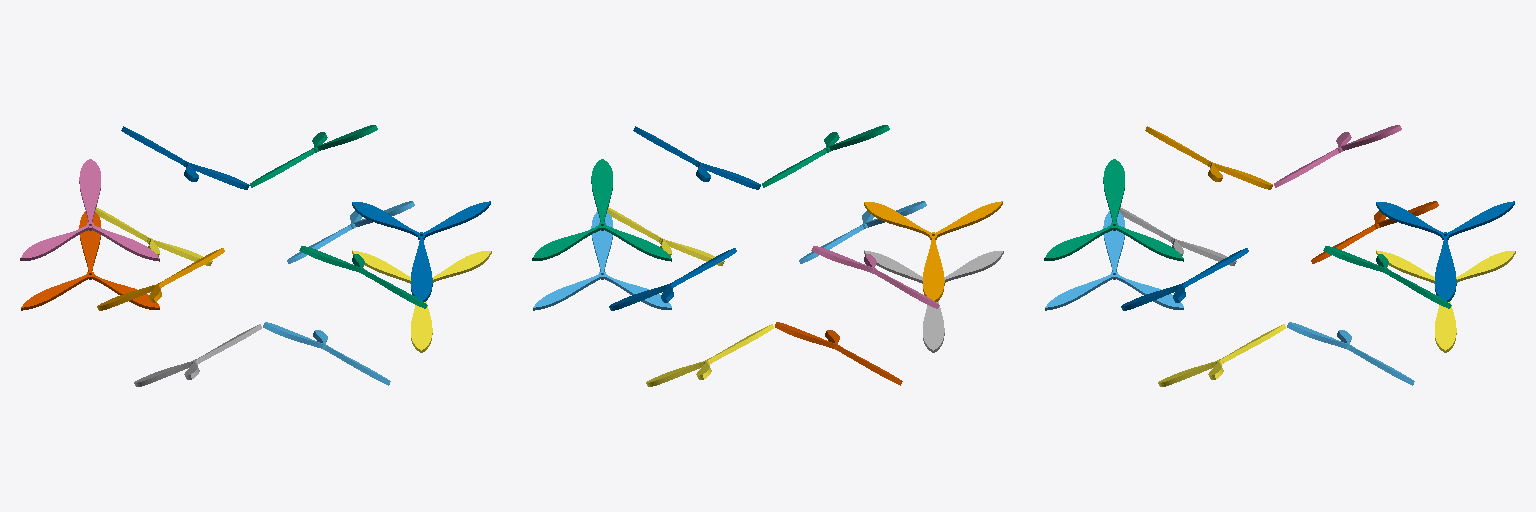
The robot description file, URDF, robot "AM20":
<?xml version="1.0" encoding="utf-8"?>
<robot name="AM20">
  <!--
    AM20 = AM-base (drone) + RM65-6F arm.

    Frame convention requested:
    - Overall base frame is drone base_link.
    - Arm base frame: Z axis aligned with drone Z.
    - Arm base is translated +1.5 mm along Z from drone base.
    - Arm X/Y are opposite to drone X/Y => rotate 180 deg around Z.

    NOTE:
    - If your tool cannot resolve package://AM-base/... mesh path, replace it with a local path.
  -->

  <!-- ======================= -->
  <!-- Drone base (overall base) -->
  <!-- ======================= -->
  <link name="base_link">
    <inertial>
      <origin xyz="-0.00048281 -0.0036283 -0.058543" rpy="0 0 0" />
      <mass value="13.818" />
      <inertia ixx="0.27248" ixy="-0.003316" ixz="0.0045127" iyy="0.28111" iyz="0.0060196" izz="0.45779" />
    </inertial>
    <visual>
      <origin xyz="0 0 0" rpy="0 0 0" />
      <geometry>
        <mesh filename="meshes/base_link.STL" scale="0.001 0.001 0.001" />
      </geometry>
      <material name="">
        <color rgba="0.6 0.6 0.6 1" />
      </material>
    </visual>
    <collision>
      <origin xyz="0 0 0" rpy="0 0 0" />
      <geometry>
        <mesh filename="meshes/base_link.STL" scale="0.001 0.001 0.001" />
      </geometry>
    </collision>
  </link>

  <!-- ======================= -->
  <!-- Rotors (from model.sdf) -->
  <!-- ======================= -->
  <!--
    Mapping requested:
    sdf 0/6 -> urdf 10/11
    sdf 1/7 -> urdf 8/9
    sdf 2/8 -> urdf 6/7
    sdf 3/9 -> urdf 4/5
    sdf 4/10 -> urdf 2/3
    sdf 5/11 -> urdf 0/1
  -->

  <link name="rotor_0">
    <inertial>
      <origin xyz="0 0 0" rpy="0 0 0" />
      <mass value="0.015" />
      <inertia ixx="0.00025" ixy="0" ixz="0" iyy="0.000002" iyz="0" izz="0.00025" />
    </inertial>
    <visual>
      <origin xyz="0 0 0" rpy="0 0 0" />
      <geometry>
        <mesh filename="meshes/prop_13.STL" scale="0.001 -0.001 -0.001" />
      </geometry>
    </visual>
    <collision>
      <origin xyz="0 0 0.006" rpy="0 0 0" />
      <geometry>
        <cylinder length="0.008" radius="0.229" />
      </geometry>
    </collision>
  </link>
  <joint name="rotor_0_joint" type="continuous">
    <origin xyz="0.3081 0.1408 -0.0727" rpy="-0.5236 0 0.5236" />
    <parent link="base_link" />
    <child link="rotor_0" />
    <axis xyz="0 0 1" />
    <limit effort="10" velocity="900" />
    <dynamics damping="0.005" friction="0.0" />
  </joint>

  <link name="rotor_1">
    <inertial>
      <origin xyz="0 0 0" rpy="0 0 0" />
      <mass value="0.015" />
      <inertia ixx="0.00025" ixy="0" ixz="0" iyy="0.000002" iyz="0" izz="0.00025" />
    </inertial>
    <visual>
      <origin xyz="0 0 0" rpy="0 0 0" />
      <geometry>
        <mesh filename="meshes/prop_13.STL" scale="-0.001 -0.001 -0.001" />
      </geometry>
    </visual>
    <collision>
      <origin xyz="0 0 0.006" rpy="0 0 0" />
      <geometry>
        <cylinder length="0.008" radius="0.229" />
      </geometry>
    </collision>
  </link>
  <joint name="rotor_1_joint" type="continuous">
    <origin xyz="0.2645 0.2164 0.0785" rpy="-0.5236 0 0.5236" />
    <parent link="base_link" />
    <child link="rotor_1" />
    <axis xyz="0 0 1" />
    <limit effort="10" velocity="900" />
    <dynamics damping="0.005" friction="0.0" />
  </joint>

  <link name="rotor_2">
    <inertial>
      <origin xyz="0 0 0" rpy="0 0 0" />
      <mass value="0.015" />
      <inertia ixx="0.00025" ixy="0" ixz="0" iyy="0.000002" iyz="0" izz="0.00025" />
    </inertial>
    <visual>
      <origin xyz="0 0 0" rpy="0 0 0" />
      <geometry>
        <mesh filename="meshes/prop_13.STL" scale="-0.001 -0.001 -0.001" />
      </geometry>
    </visual>
    <collision>
      <origin xyz="0 0 0.006" rpy="0 0 0" />
      <geometry>
        <cylinder length="0.008" radius="0.229" />
      </geometry>
    </collision>
  </link>
  <joint name="rotor_2_joint" type="continuous">
    <origin xyz="-0.0501 0.3372 -0.1039" rpy="0.5236 0 1.5708" />
    <parent link="base_link" />
    <child link="rotor_2" />
    <axis xyz="0 0 1" />
    <limit effort="10" velocity="900" />
    <dynamics damping="0.005" friction="0.0" />
  </joint>

  <link name="rotor_3">
    <inertial>
      <origin xyz="0 0 0" rpy="0 0 0" />
      <mass value="0.015" />
      <inertia ixx="0.00025" ixy="0" ixz="0" iyy="0.000002" iyz="0" izz="0.00025" />
    </inertial>
    <visual>
      <origin xyz="0 0 0" rpy="0 0 0" />
      <geometry>
        <mesh filename="meshes/prop_13.STL" scale="0.001 -0.001 -0.001" />
      </geometry>
    </visual>
    <collision>
      <origin xyz="0 0 0.006" rpy="0 0 0" />
      <geometry>
        <cylinder length="0.008" radius="0.229" />
      </geometry>
    </collision>
  </link>
  <joint name="rotor_3_joint" type="continuous">
    <origin xyz="0.0372 0.3372 0.0473" rpy="0.5236 0 1.5708" />
    <parent link="base_link" />
    <child link="rotor_3" />
    <axis xyz="0 0 1" />
    <limit effort="10" velocity="900" />
    <dynamics damping="0.005" friction="0.0" />
  </joint>

  <link name="rotor_4">
    <inertial>
      <origin xyz="0 0 0" rpy="0 0 0" />
      <mass value="0.015" />
      <inertia ixx="0.00025" ixy="0" ixz="0" iyy="0.000002" iyz="0" izz="0.00025" />
    </inertial>
    <visual>
      <origin xyz="0 0 0" rpy="0 0 0" />
      <geometry>
        <mesh filename="meshes/prop_13.STL" scale="0.001 -0.001 -0.001" />
      </geometry>
    </visual>
    <collision>
      <origin xyz="0 0 0.006" rpy="0 0 0" />
      <geometry>
        <cylinder length="0.008" radius="0.229" />
      </geometry>
    </collision>
  </link>
  <joint name="rotor_4_joint" type="continuous">
    <origin xyz="-0.2760 0.1965 -0.0727" rpy="-0.5236 0 2.6180" />
    <parent link="base_link" />
    <child link="rotor_4" />
    <axis xyz="0 0 1" />
    <limit effort="10" velocity="900" />
    <dynamics damping="0.005" friction="0.0" />
  </joint>

  <link name="rotor_5">
    <inertial>
      <origin xyz="0 0 0" rpy="0 0 0" />
      <mass value="0.015" />
      <inertia ixx="0.00025" ixy="0" ixz="0" iyy="0.000002" iyz="0" izz="0.00025" />
    </inertial>
    <visual>
      <origin xyz="0 0 0" rpy="0 0 0" />
      <geometry>
        <mesh filename="meshes/prop_13.STL" scale="-0.001 -0.001 -0.001" />
      </geometry>
    </visual>
    <collision>
      <origin xyz="0 0 0.006" rpy="0 0 0" />
      <geometry>
        <cylinder length="0.008" radius="0.229" />
      </geometry>
    </collision>
  </link>
  <joint name="rotor_5_joint" type="continuous">
    <origin xyz="-0.3196 0.1209 0.0785" rpy="-0.5236 0 2.6180" />
    <parent link="base_link" />
    <child link="rotor_5" />
    <axis xyz="0 0 1" />
    <limit effort="10" velocity="900" />
    <dynamics damping="0.005" friction="0.0" />
  </joint>

  <link name="rotor_6">
    <inertial>
      <origin xyz="0 0 0" rpy="0 0 0" />
      <mass value="0.015" />
      <inertia ixx="0.00025" ixy="0" ixz="0" iyy="0.000002" iyz="0" izz="0.00025" />
    </inertial>
    <visual>
      <origin xyz="0 0 0" rpy="0 0 0" />
      <geometry>
        <mesh filename="meshes/prop_13.STL" scale="-0.001 -0.001 -0.001" />
      </geometry>
    </visual>
    <collision>
      <origin xyz="0 0 0.006" rpy="0 0 0" />
      <geometry>
        <cylinder length="0.008" radius="0.229" />
      </geometry>
    </collision>
  </link>
  <joint name="rotor_6_joint" type="continuous">
    <origin xyz="-0.2670 -0.2121 -0.1039" rpy="0.5236 0 -2.6180" />
    <parent link="base_link" />
    <child link="rotor_6" />
    <axis xyz="0 0 1" />
    <limit effort="10" velocity="900" />
    <dynamics damping="0.005" friction="0.0" />
  </joint>

  <link name="rotor_7">
    <inertial>
      <origin xyz="0 0 0" rpy="0 0 0" />
      <mass value="0.015" />
      <inertia ixx="0.00025" ixy="0" ixz="0" iyy="0.000002" iyz="0" izz="0.00025" />
    </inertial>
    <visual>
      <origin xyz="0 0 0" rpy="0 0 0" />
      <geometry>
        <mesh filename="meshes/prop_13.STL" scale="0.001 -0.001 -0.001" />
      </geometry>
    </visual>
    <collision>
      <origin xyz="0 0 0.006" rpy="0 0 0" />
      <geometry>
        <cylinder length="0.008" radius="0.229" />
      </geometry>
    </collision>
  </link>
  <joint name="rotor_7_joint" type="continuous">
    <origin xyz="-0.3106 -0.1365 0.0473" rpy="0.5236 0 -2.6180" />
    <parent link="base_link" />
    <child link="rotor_7" />
    <axis xyz="0 0 1" />
    <limit effort="10" velocity="900" />
    <dynamics damping="0.005" friction="0.0" />
  </joint>

  <link name="rotor_8">
    <inertial>
      <origin xyz="0 0 0" rpy="0 0 0" />
      <mass value="0.015" />
      <inertia ixx="0.00025" ixy="0" ixz="0" iyy="0.000002" iyz="0" izz="0.00025" />
    </inertial>
    <visual>
      <origin xyz="0 0 0" rpy="0 0 0" />
      <geometry>
        <mesh filename="meshes/prop_13.STL" scale="0.001 -0.001 -0.001" />
      </geometry>
    </visual>
    <collision>
      <origin xyz="0 0 0.006" rpy="0 0 0" />
      <geometry>
        <cylinder length="0.008" radius="0.229" />
      </geometry>
    </collision>
  </link>
  <joint name="rotor_8_joint" type="continuous">
    <origin xyz="-0.0321 -0.3372 -0.0727" rpy="-0.5236 0 -1.5708" />
    <parent link="base_link" />
    <child link="rotor_8" />
    <axis xyz="0 0 1" />
    <limit effort="10" velocity="900" />
    <dynamics damping="0.005" friction="0.0" />
  </joint>

  <link name="rotor_9">
    <inertial>
      <origin xyz="0 0 0" rpy="0 0 0" />
      <mass value="0.015" />
      <inertia ixx="0.00025" ixy="0" ixz="0" iyy="0.000002" iyz="0" izz="0.00025" />
    </inertial>
    <visual>
      <origin xyz="0 0 0" rpy="0 0 0" />
      <geometry>
        <mesh filename="meshes/prop_13.STL" scale="-0.001 -0.001 -0.001" />
      </geometry>
    </visual>
    <collision>
      <origin xyz="0 0 0.006" rpy="0 0 0" />
      <geometry>
        <cylinder length="0.008" radius="0.229" />
      </geometry>
    </collision>
  </link>
  <joint name="rotor_9_joint" type="continuous">
    <origin xyz="0.0552 -0.3372 0.0785" rpy="-0.5236 0 -1.5708" />
    <parent link="base_link" />
    <child link="rotor_9" />
    <axis xyz="0 0 1" />
    <limit effort="10" velocity="900" />
    <dynamics damping="0.005" friction="0.0" />
  </joint>

  <link name="rotor_10">
    <inertial>
      <origin xyz="0 0 0" rpy="0 0 0" />
      <mass value="0.015" />
      <inertia ixx="0.00025" ixy="0" ixz="0" iyy="0.000002" iyz="0" izz="0.00025" />
    </inertial>
    <visual>
      <origin xyz="0 0 0" rpy="0 0 0" />
      <geometry>
        <mesh filename="meshes/prop_13.STL" scale="-0.001 -0.001 -0.001" />
      </geometry>
    </visual>
    <collision>
      <origin xyz="0 0 0.006" rpy="0 0 0" />
      <geometry>
        <cylinder length="0.008" radius="0.229" />
      </geometry>
    </collision>
  </link>
  <joint name="rotor_10_joint" type="continuous">
    <origin xyz="0.3171 -0.1252 -0.1039" rpy="0.5236 0 -0.5236" />
    <parent link="base_link" />
    <child link="rotor_10" />
    <axis xyz="0 0 1" />
    <limit effort="10" velocity="900" />
    <dynamics damping="0.005" friction="0.0" />
  </joint>

  <link name="rotor_11">
    <inertial>
      <origin xyz="0 0 0" rpy="0 0 0" />
      <mass value="0.015" />
      <inertia ixx="0.00025" ixy="0" ixz="0" iyy="0.000002" iyz="0" izz="0.00025" />
    </inertial>
    <visual>
      <origin xyz="0 0 0" rpy="0 0 0" />
      <geometry>
        <mesh filename="meshes/prop_13.STL" scale="0.001 -0.001 -0.001" />
      </geometry>
    </visual>
    <collision>
      <origin xyz="0 0 0.006" rpy="0 0 0" />
      <geometry>
        <cylinder length="0.008" radius="0.229" />
      </geometry>
    </collision>
  </link>
  <joint name="rotor_11_joint" type="continuous">
    <origin xyz="0.2735 -0.2008 0.0473" rpy="0.5236 0 -0.5236" />
    <parent link="base_link" />
    <child link="rotor_11" />
    <axis xyz="0 0 1" />
    <limit effort="10" velocity="900" />
    <dynamics damping="0.005" friction="0.0" />
  </joint>

  <!-- ======================= -->
  <!-- RM65-6F arm (prefixed) -->
  <!-- ======================= -->

  <link name="rm_base_link">
    <inertial>
      <origin xyz="-0.00049840293879996 -5.19350047653785E-05 0.0600202841321701" rpy="0 0 0" />
      <mass value="0.838885281114303" />
      <inertia ixx="0.00172321229549441" ixy="3.09076898315635E-06" ixz="-3.7922126488402E-05" iyy="0.00170514762495823" iyz="1.38793642017112E-06" izz="0.000901589030906685" />
    </inertial>
    <visual>
      <origin xyz="0 0 0" rpy="0 0 0" />
      <geometry>
        <mesh filename="meshes/rm_65_arm/base_link.STL" />
      </geometry>
      <material name="">
        <color rgba="0.752941176470588 0.752941176470588 0.752941176470588 1" />
      </material>
    </visual>
    <collision>
      <origin xyz="0 0 0" rpy="0 0 0" />
      <geometry>
        <mesh filename="meshes/rm_65_arm/base_link.STL" />
      </geometry>
    </collision>
  </link>

  <!-- Mount arm to drone base: +1.5mm in Z, and flip X/Y by yaw=pi -->
  <joint name="rm65_mount_joint" type="fixed">
    <origin xyz="0 0 0.0015" rpy="0 0 3.141592653589793" />
    <parent link="base_link" />
    <child link="rm_base_link" />
  </joint>

  <link name="rm_Link1">
    <inertial>
      <origin xyz="-2.05546069214312E-07 0.0211077047188954 -0.0251861970792274" rpy="0 0 0" />
      <mass value="0.593542243994357" />
      <inertia ixx="0.00126611498055767" ixy="-5.09885204907085E-09" ixz="-6.36116302372232E-09" iyy="0.00118165919048932" iyz="-0.000211204511668188" izz="0.000561320297380402" />
    </inertial>
    <visual>
      <origin xyz="0 0 0" rpy="0 0 0" />
      <geometry>
        <mesh filename="meshes/rm_65_arm/Link1.STL" />
      </geometry>
      <material name="">
        <color rgba="0.752941176470588 0.752941176470588 0.752941176470588 1" />
      </material>
    </visual>
    <collision>
      <origin xyz="0 0 0" rpy="0 0 0" />
      <geometry>
        <mesh filename="meshes/rm_65_arm/Link1.STL" />
      </geometry>
    </collision>
  </link>

  <joint name="rm_joint1" type="revolute">
    <origin xyz="0 0 0.2405" rpy="0 0 0" />
    <parent link="rm_base_link" />
    <child link="rm_Link1" />
    <axis xyz="0 0 -1" />
    <limit lower="-3.105" upper="3.105" effort="60" velocity="3.14" />
  </joint>

  <link name="rm_Link2">
    <inertial>
      <origin xyz="0.152256777078729 5.03020745195745E-07 -0.00620261689688585" rpy="0 0 0" />
      <mass value="0.86417584142394" />
      <inertia ixx="0.000632536249619478" ixy="-1.50829601286586E-08" ixz="0.000421628477937965" iyy="0.00205272279459906" iyz="3.72279302448935E-09" izz="0.00195281592383166" />
    </inertial>
    <visual>
      <origin xyz="0 0 0" rpy="0 0 0" />
      <geometry>
        <mesh filename="meshes/rm_65_arm/Link2.STL" />
      </geometry>
      <material name="">
        <color rgba="0.752941176470588 0.752941176470588 0.752941176470588 1" />
      </material>
    </visual>
    <collision>
      <origin xyz="0 0 0" rpy="0 0 0" />
      <geometry>
        <mesh filename="meshes/rm_65_arm/Link2.STL" />
      </geometry>
    </collision>
  </link>

  <joint name="rm_joint2" type="revolute">
    <origin xyz="0 0 0" rpy="1.5708 -1.5708 0" />
    <parent link="rm_Link1" />
    <child link="rm_Link2" />
    <axis xyz="0 0 1" />
    <limit lower="-2.269" upper="2.269" effort="60" velocity="3.14" />
  </joint>

  <link name="rm_Link3">
    <inertial>
      <origin xyz="4.51889143251529E-06 -0.0595928812560097 0.0105690421381407" rpy="0 0 0" />
      <mass value="0.289643824525119" />
      <inertia ixx="0.000637363594961081" ixy="-5.74855022778973E-08" ixz="-3.30883733392731E-08" iyy="0.000156488205208169" iyz="-0.000144608155860483" izz="0.000614175003514739" />
    </inertial>
    <visual>
      <origin xyz="0 0 0" rpy="0 0 0" />
      <geometry>
        <mesh filename="meshes/rm_65_arm/Link3.STL" />
      </geometry>
      <material name="">
        <color rgba="0.752941176470588 0.752941176470588 0.752941176470588 1" />
      </material>
    </visual>
    <collision>
      <origin xyz="0 0 0" rpy="0 0 0" />
      <geometry>
        <mesh filename="meshes/rm_65_arm/Link3.STL" />
      </geometry>
    </collision>
  </link>

  <joint name="rm_joint3" type="revolute">
    <origin xyz="0.256 0 0" rpy="0 0 1.5708" />
    <parent link="rm_Link2" />
    <child link="rm_Link3" />
    <axis xyz="0 0 1" />
    <limit lower="-2.356" upper="2.356" effort="30" velocity="3.14" />
  </joint>

  <link name="rm_Link4">
    <inertial>
      <origin xyz="1.32071622473062E-06 -0.0180437560522369 -0.0215381587841798" rpy="0 0 0" />
      <mass value="0.239430992940448" />
      <inertia ixx="0.00028594979957681" ixy="-2.14337423072154E-09" ixz="1.40294693820984E-09" iyy="0.000262735545580892" iyz="4.4240809689715E-05" izz="0.000119899058385996" />
    </inertial>
    <visual>
      <origin xyz="0 0 0" rpy="0 0 0" />
      <geometry>
        <mesh filename="meshes/rm_65_arm/Link4.STL" />
      </geometry>
      <material name="">
        <color rgba="0.752941176470588 0.752941176470588 0.752941176470588 1" />
      </material>
    </visual>
    <collision>
      <origin xyz="0 0 0" rpy="0 0 0" />
      <geometry>
        <mesh filename="meshes/rm_65_arm/Link4.STL" />
      </geometry>
    </collision>
  </link>

  <joint name="rm_joint4" type="revolute">
    <origin xyz="0 -0.21 0" rpy="1.5708 0 0" />
    <parent link="rm_Link3" />
    <child link="rm_Link4" />
    <axis xyz="0 0 -1" />
    <limit lower="-3.106" upper="3.106" effort="10" velocity="3.14" />
  </joint>

  <link name="rm_Link5">
    <inertial>
      <origin xyz="4.23948957018841E-06 -0.0593817487603215 0.00736779587750847" rpy="0 0 0" />
      <mass value="0.21879527056675" />
      <inertia ixx="0.00035053124249399" ixy="-3.11297051636039E-08" ixz="-1.70875238293736E-08" iyy="0.00010492541026997" iyz="-7.82406705228082E-05" izz="0.000334471302428861" />
    </inertial>
    <visual>
      <origin xyz="0 0 0" rpy="0 0 0" />
      <geometry>
        <mesh filename="meshes/rm_65_arm/Link5.STL" />
      </geometry>
      <material name="">
        <color rgba="0.752941176470588 0.752941176470588 0.752941176470588 1" />
      </material>
    </visual>
    <collision>
      <origin xyz="0 0 0" rpy="0 0 0" />
      <geometry>
        <mesh filename="meshes/rm_65_arm/Link5.STL" />
      </geometry>
    </collision>
  </link>

  <joint name="rm_joint5" type="revolute">
    <origin xyz="0 0 0" rpy="-1.5708 0 0" />
    <parent link="rm_Link4" />
    <child link="rm_Link5" />
    <axis xyz="0 0 1" />
    <limit lower="-2.234" upper="2.234" effort="10" velocity="3.14" />
  </joint>

  <link name="rm_Link6">
    <inertial>
      <origin xyz="0.000138559985614397 -0.00574537418929974 -0.535986173384404" rpy="0 0 0" />
      <mass value="3.04449097371379" />
      <inertia ixx="0.170810328289537" ixy="5.3822775672348E-07" ixz="0.000151207460728544" iyy="0.169967421523245" iyz="0.00105777172655597" izz="0.00305546066386606" />
    </inertial>
    <visual>
      <origin xyz="0 0 0" rpy="0 0 0" />
      <geometry>
        <mesh filename="meshes/rm_65_arm/Link6.STL" />
      </geometry>
      <material name="">
        <color rgba="0.792156862745098 0.819607843137255 0.933333333333333 1" />
      </material>
    </visual>
    <collision>
      <origin xyz="0 0 0" rpy="0 0 0" />
      <geometry>
        <mesh filename="meshes/rm_65_arm/Link6.STL" />
      </geometry>
    </collision>
  </link>

  <joint name="rm_joint6" type="revolute">
    <origin xyz="0 -0.1613 0" rpy="1.5708 0 0" />
    <parent link="rm_Link5" />
    <child link="rm_Link6" />
    <axis xyz="0 0 1" />
    <limit lower="-6.28" upper="6.28" effort="10" velocity="3.14" />
  </joint>
</robot>

--- Render facts (derived) ---
The picture shows the robot from 3 angles, left to right: view 1: azimuth 30°, elevation 25°; view 2: azimuth 150°, elevation 25°; view 3: azimuth 270°, elevation 25°; orthographic projection.
Model AM20 with 20 links and 19 joints (6 revolute, 12 continuous, 1 fixed), rooted at base_link, posed all joints at 0.
Visible links, largest first — view 1: rotor_5, rotor_11, rotor_10, rotor_4, rotor_3, rotor_1, rotor_6, rotor_8, rotor_7, rotor_9, rotor_2, rotor_0; view 2: rotor_1, rotor_7, rotor_6, rotor_0, rotor_4, rotor_9, rotor_2, rotor_11, rotor_5, rotor_3, rotor_10, rotor_8; view 3: rotor_9, rotor_3, rotor_2, rotor_8, rotor_10, rotor_5, rotor_7, rotor_0, rotor_1, rotor_11, rotor_6, rotor_4.
Boxes of the visible links, <box> form: rotor_5: <box>20,159,159,261</box>; rotor_11: <box>352,201,490,301</box>; rotor_10: <box>352,250,491,352</box>; rotor_4: <box>21,211,159,310</box>; rotor_3: <box>121,126,249,189</box>; rotor_1: <box>250,125,377,187</box>; rotor_6: <box>134,324,261,386</box>; rotor_8: <box>263,322,390,385</box>; rotor_7: <box>97,248,224,310</box>; rotor_9: <box>299,246,427,308</box>; rotor_2: <box>95,207,212,265</box>; rotor_0: <box>287,201,414,263</box>; rotor_1: <box>532,159,671,261</box>; rotor_7: <box>864,201,1002,301</box>; rotor_6: <box>864,250,1003,352</box>; rotor_0: <box>533,211,671,310</box>; rotor_4: <box>775,322,902,385</box>; rotor_9: <box>762,125,889,187</box>; rotor_2: <box>646,324,773,386</box>; rotor_11: <box>633,126,760,189</box>; rotor_5: <box>811,246,939,308</box>; rotor_3: <box>609,248,736,310</box>; rotor_10: <box>607,207,724,265</box>; rotor_8: <box>799,201,926,263</box>; rotor_9: <box>1044,159,1183,261</box>; rotor_3: <box>1376,201,1514,301</box>; rotor_2: <box>1376,250,1515,352</box>; rotor_8: <box>1045,211,1183,310</box>; rotor_10: <box>1158,324,1285,386</box>; rotor_5: <box>1274,125,1401,187</box>; rotor_7: <box>1145,126,1272,189</box>; rotor_0: <box>1287,322,1414,385</box>; rotor_1: <box>1323,246,1451,308</box>; rotor_11: <box>1121,248,1248,310</box>; rotor_6: <box>1119,207,1236,265</box>; rotor_4: <box>1311,201,1438,263</box>.
Bounding box of the posed robot: 0.9582 × 0.9594 × 0.3562 m (x, y, z).
Meshes: 9 distinct files referenced, 12 mesh visuals loaded (1 binary STL); not drawn: 8 (reference not matched to a file when rendering).
